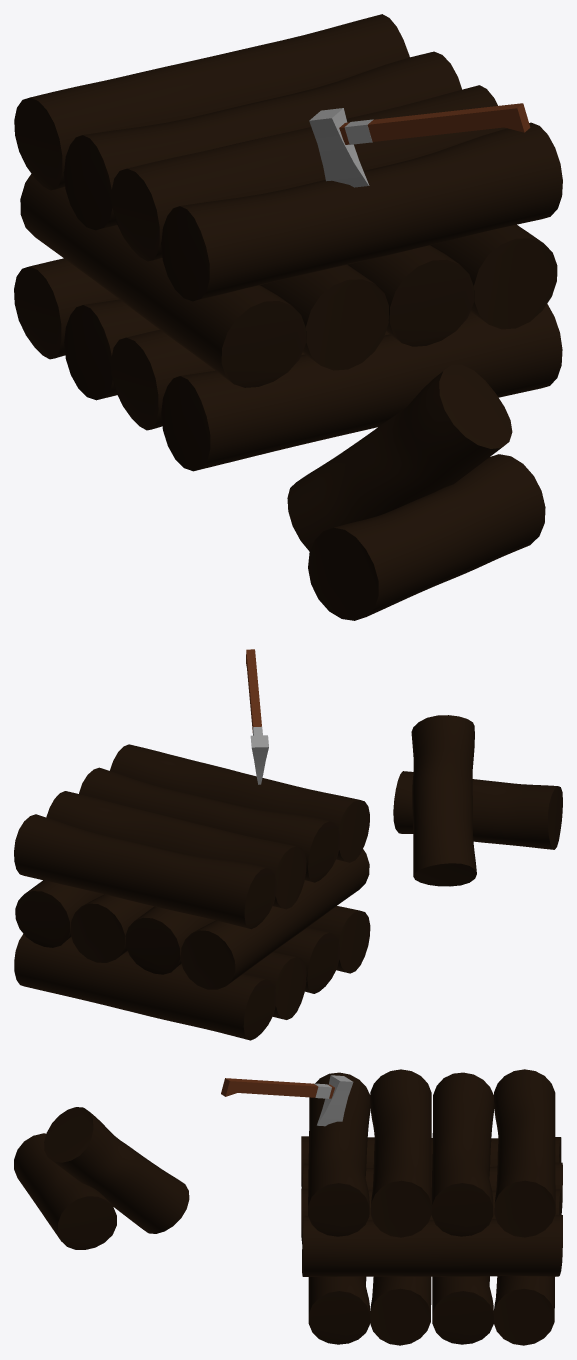
File: logsnAxe.FBX
The picture shows the model from 3 angles, top to bottom: view 1: azimuth 30°, elevation 25°; view 2: azimuth 150°, elevation 25°; view 3: azimuth 270°, elevation 25°; orthographic projection. The views are drawn at different scales.
Parts seen in each view (by area): view 1: Cylinder012, Cylinder001, Cylinder009, Cylinder013, Cylinder008, Cylinder014, Cylinder010, Cylinder011, Cylinder007, Cylinder005, Cylinder006, Cylinder004 (+4 smaller); view 2: Cylinder009, Cylinder004, Cylinder014, Cylinder010, Cylinder012, Cylinder011, Cylinder008, Cylinder013, Cylinder007, Cylinder006, Cylinder005, Cylinder002 (+4 smaller); view 3: Cylinder005, Cylinder009, Cylinder011, Cylinder010, Cylinder014, Cylinder012, Cylinder013, Cylinder003, Cylinder001, Cylinder002, Cylinder004, Box001 (+4 smaller).
Part boxes in pixels (x1=…): Cylinder012: x1=161, y1=122, x2=562, y2=301; Cylinder001: x1=161, y1=304, x2=562, y2=471; Cylinder009: x1=14, y1=14, x2=409, y2=190; Cylinder013: x1=308, y1=454, x2=545, y2=620; Cylinder008: x1=20, y1=174, x2=306, y2=387; Cylinder014: x1=287, y1=364, x2=512, y2=551; Cylinder010: x1=63, y1=51, x2=461, y2=230; Cylinder011: x1=111, y1=85, x2=506, y2=261; Cylinder007: x1=260, y1=265, x2=388, y2=370; Cylinder005: x1=430, y1=224, x2=557, y2=329; Cylinder006: x1=347, y1=245, x2=474, y2=346; Cylinder004: x1=14, y1=258, x2=119, y2=359; Cylinder009: x1=14, y1=814, x2=276, y2=929; Cylinder004: x1=14, y1=934, x2=276, y2=1040; Cylinder014: x1=411, y1=715, x2=476, y2=886; Cylinder010: x1=46, y1=791, x2=306, y2=909; Cylinder012: x1=110, y1=744, x2=369, y2=862; Cylinder011: x1=79, y1=767, x2=340, y2=882; Cylinder008: x1=180, y1=849, x2=369, y2=989; Cylinder013: x1=393, y1=771, x2=562, y2=849; Cylinder007: x1=125, y1=906, x2=215, y2=974; Cylinder006: x1=70, y1=894, x2=153, y2=962; Cylinder005: x1=15, y1=880, x2=103, y2=947; Cylinder002: x1=273, y1=928, x2=339, y2=993; Cylinder005: x1=302, y1=1215, x2=562, y2=1276; Cylinder009: x1=494, y1=1069, x2=555, y2=1237; Cylinder011: x1=370, y1=1069, x2=431, y2=1237; Cylinder010: x1=431, y1=1072, x2=494, y2=1236; Cylinder014: x1=44, y1=1107, x2=189, y2=1233; Cylinder012: x1=308, y1=1072, x2=370, y2=1236; Cylinder013: x1=14, y1=1133, x2=116, y2=1249; Cylinder003: x1=432, y1=1276, x2=493, y2=1344; Cylinder001: x1=308, y1=1276, x2=370, y2=1344; Cylinder002: x1=370, y1=1276, x2=431, y2=1345; Cylinder004: x1=493, y1=1276, x2=554, y2=1345; Box001: x1=221, y1=1078, x2=334, y2=1098.
Size of the model in its own units: 30.98 by 24.68 by 52.46.
